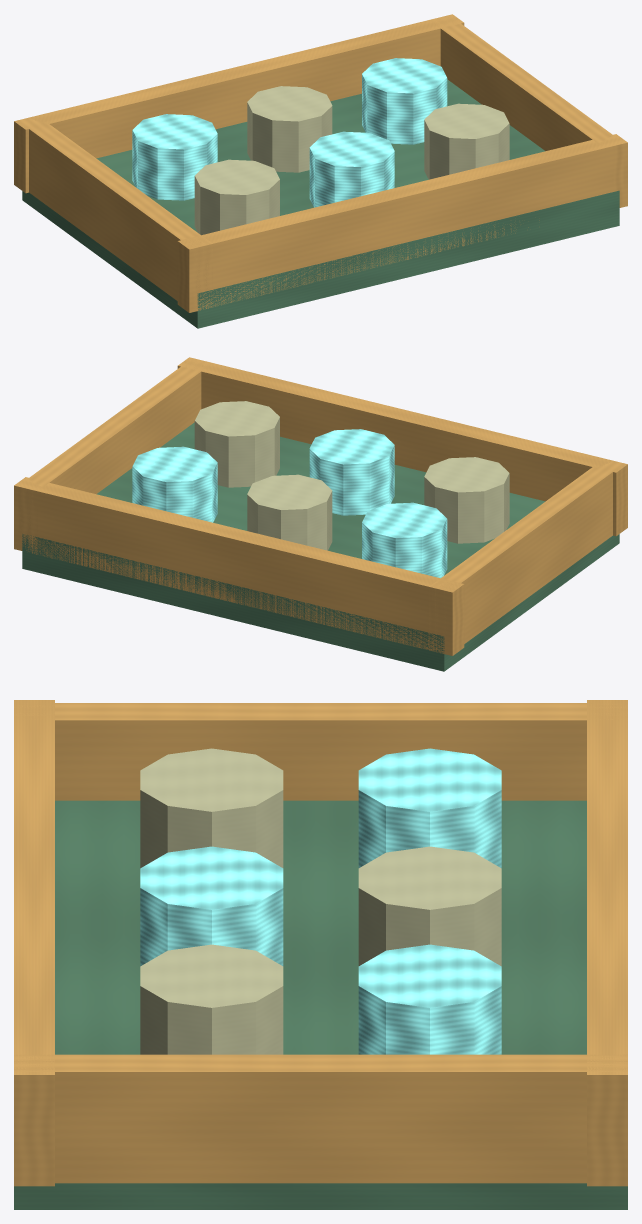
Rendered from atlas100-s008-a04.glb.
3 views of the same model, one above another, from view 1: azimuth 30°, elevation 25°; view 2: azimuth 150°, elevation 25°; view 3: azimuth 270°, elevation 25° (orthographic). The views are drawn at different scales.
Parts seen in each view (by area): view 1: atlas100-s008-a04:part-002, atlas100-s008-a04:part-000, atlas100-s008-a04:part-001, atlas100-s008-a04:part-003, atlas100-s008-a04:part-004, atlas100-s008-a04:part-005, atlas100-s008-a04:part-007, atlas100-s008-a04:part-006, atlas100-s008-a04:part-009, atlas100-s008-a04:part-010, atlas100-s008-a04:part-008; view 2: atlas100-s008-a04:part-001, atlas100-s008-a04:part-000, atlas100-s008-a04:part-002, atlas100-s008-a04:part-003, atlas100-s008-a04:part-004, atlas100-s008-a04:part-008, atlas100-s008-a04:part-010, atlas100-s008-a04:part-009, atlas100-s008-a04:part-006, atlas100-s008-a04:part-007, atlas100-s008-a04:part-005; view 3: atlas100-s008-a04:part-000, atlas100-s008-a04:part-004, atlas100-s008-a04:part-003, atlas100-s008-a04:part-001, atlas100-s008-a04:part-002, atlas100-s008-a04:part-007, atlas100-s008-a04:part-010, atlas100-s008-a04:part-005, atlas100-s008-a04:part-008, atlas100-s008-a04:part-006, atlas100-s008-a04:part-009.
Boxes of the visible parts, box(x1,y1,x2,y2) form: atlas100-s008-a04:part-002: box(177, 134, 627, 312); atlas100-s008-a04:part-000: box(22, 79, 619, 328); atlas100-s008-a04:part-001: box(14, 14, 464, 193); atlas100-s008-a04:part-003: box(17, 118, 212, 311); atlas100-s008-a04:part-004: box(430, 15, 624, 207); atlas100-s008-a04:part-005: box(132, 114, 217, 200); atlas100-s008-a04:part-007: box(362, 58, 447, 144); atlas100-s008-a04:part-006: box(247, 86, 332, 172); atlas100-s008-a04:part-009: box(309, 131, 394, 207); atlas100-s008-a04:part-010: box(424, 103, 509, 179); atlas100-s008-a04:part-008: box(194, 159, 279, 235); atlas100-s008-a04:part-001: box(14, 477, 464, 655); atlas100-s008-a04:part-000: box(22, 422, 619, 671); atlas100-s008-a04:part-002: box(177, 357, 627, 536); atlas100-s008-a04:part-003: box(429, 461, 624, 652); atlas100-s008-a04:part-004: box(17, 358, 211, 554); atlas100-s008-a04:part-008: box(424, 457, 509, 543); atlas100-s008-a04:part-010: box(194, 401, 279, 487); atlas100-s008-a04:part-009: box(309, 429, 394, 515); atlas100-s008-a04:part-006: box(247, 474, 332, 550); atlas100-s008-a04:part-007: box(132, 446, 217, 522); atlas100-s008-a04:part-005: box(362, 502, 447, 578); atlas100-s008-a04:part-000: box(14, 800, 627, 1209); atlas100-s008-a04:part-004: box(14, 1054, 627, 1183); atlas100-s008-a04:part-003: box(14, 703, 627, 800); atlas100-s008-a04:part-001: box(587, 700, 627, 1186); atlas100-s008-a04:part-002: box(14, 700, 54, 1186); atlas100-s008-a04:part-007: box(358, 944, 501, 1054); atlas100-s008-a04:part-010: box(140, 944, 283, 1054); atlas100-s008-a04:part-005: box(358, 748, 501, 868); atlas100-s008-a04:part-008: box(140, 748, 283, 868); atlas100-s008-a04:part-006: box(358, 846, 501, 966); atlas100-s008-a04:part-009: box(140, 846, 283, 966).
Size of the model in its own units: 1.39 by 0.2619 by 0.9621.
Materials: 4 (4 with a texture image).
